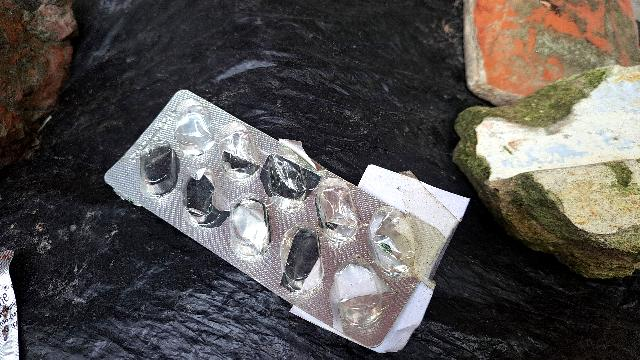medicine: (91, 73, 448, 348)
